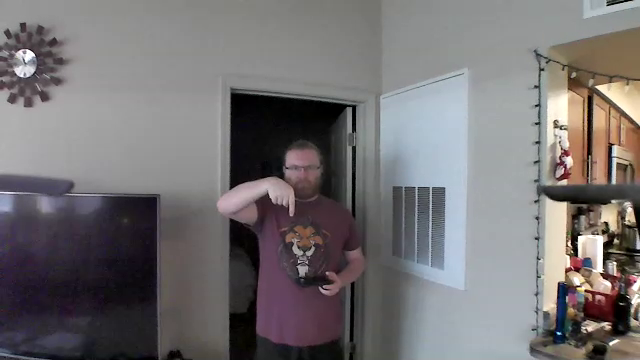down: (263, 174, 296, 220)
